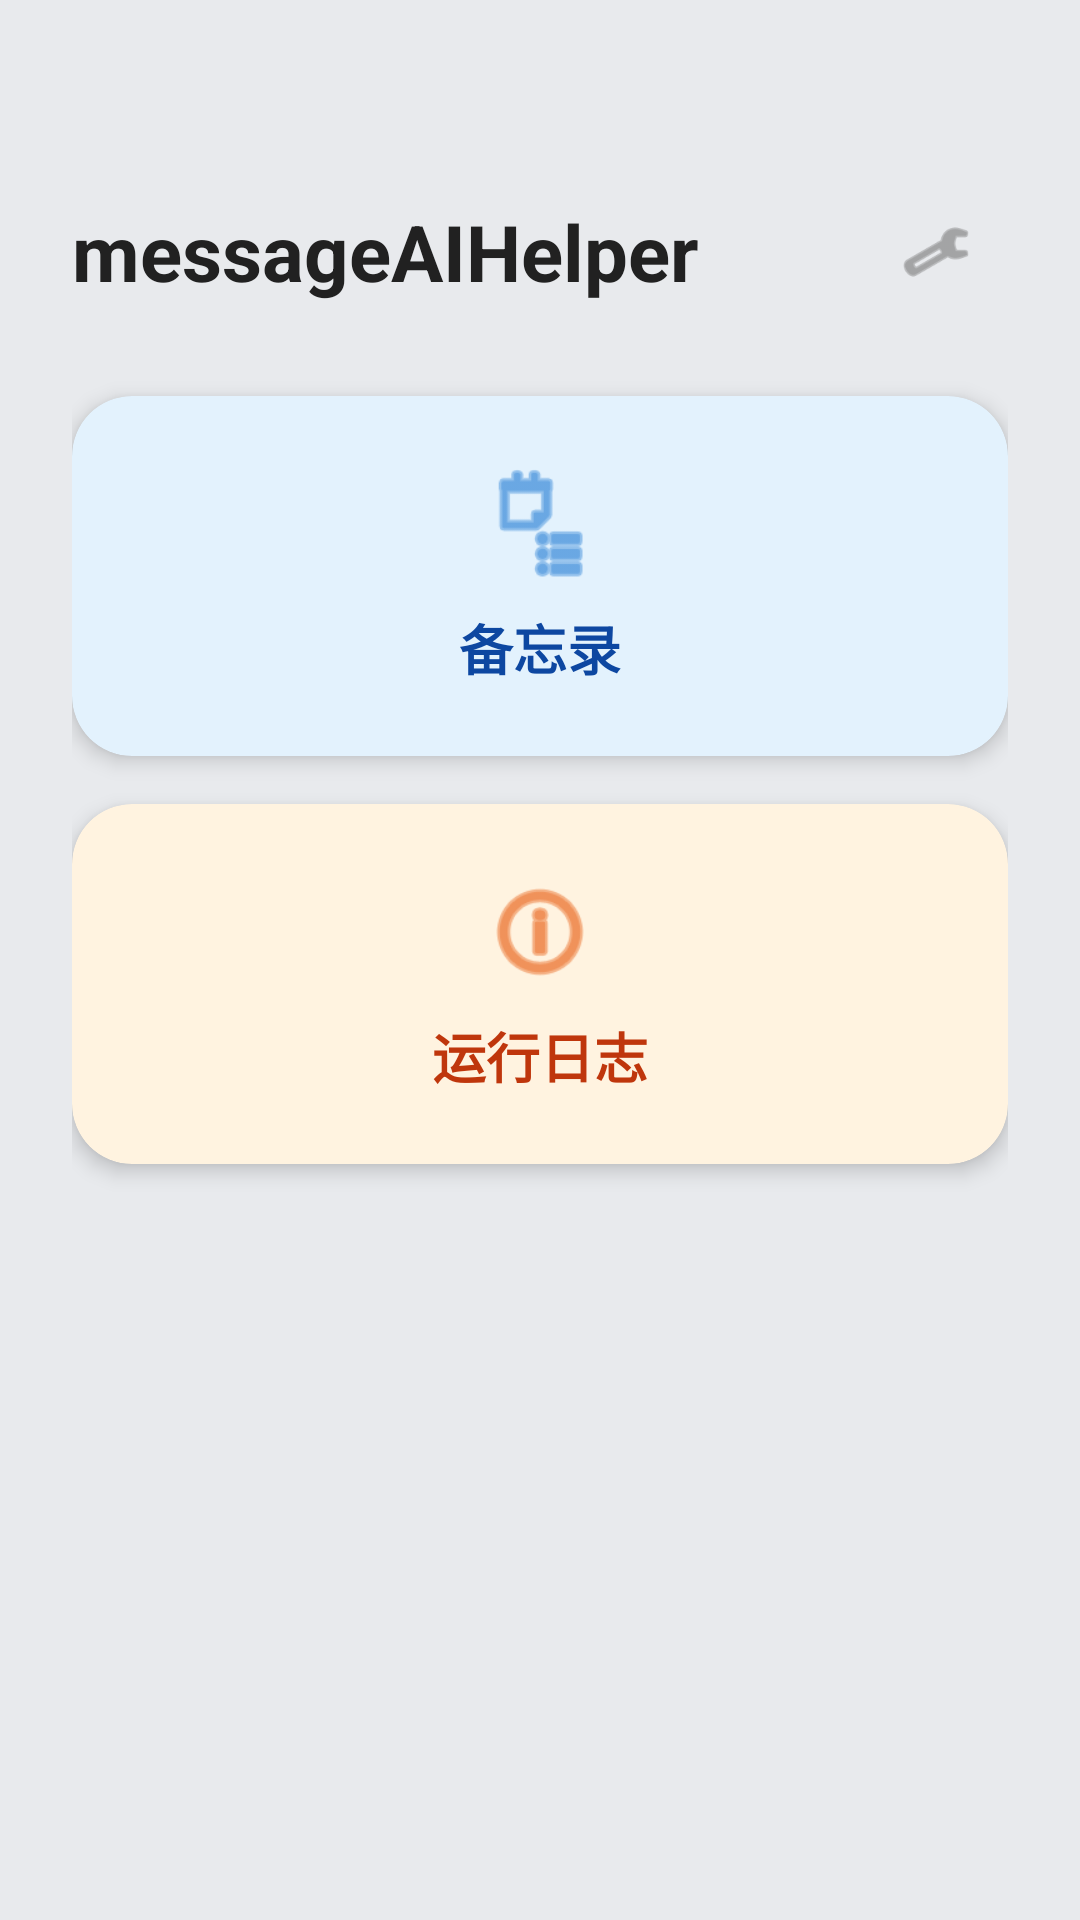

Where icons sit on this 1080px×1920px app screen, as (x1, y1, x2, y2):
agenda: (498, 470, 583, 577)
info details: (497, 889, 583, 975)
设置: (904, 227, 968, 277)
